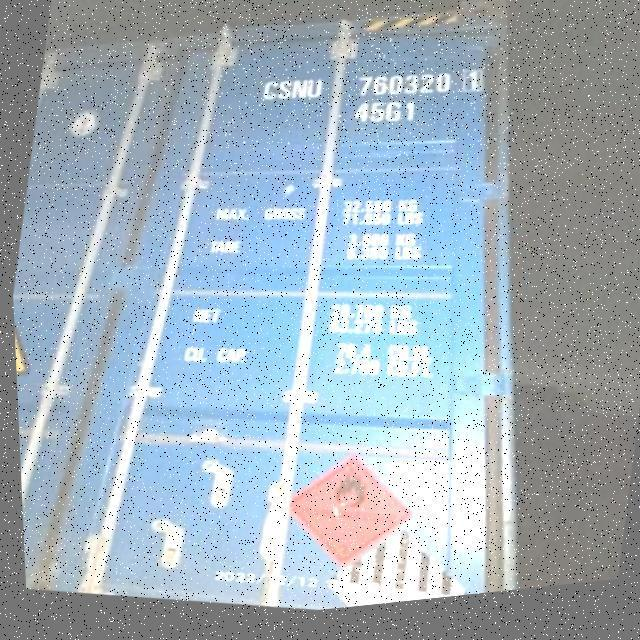container_number_h: (199, 1, 534, 202)
